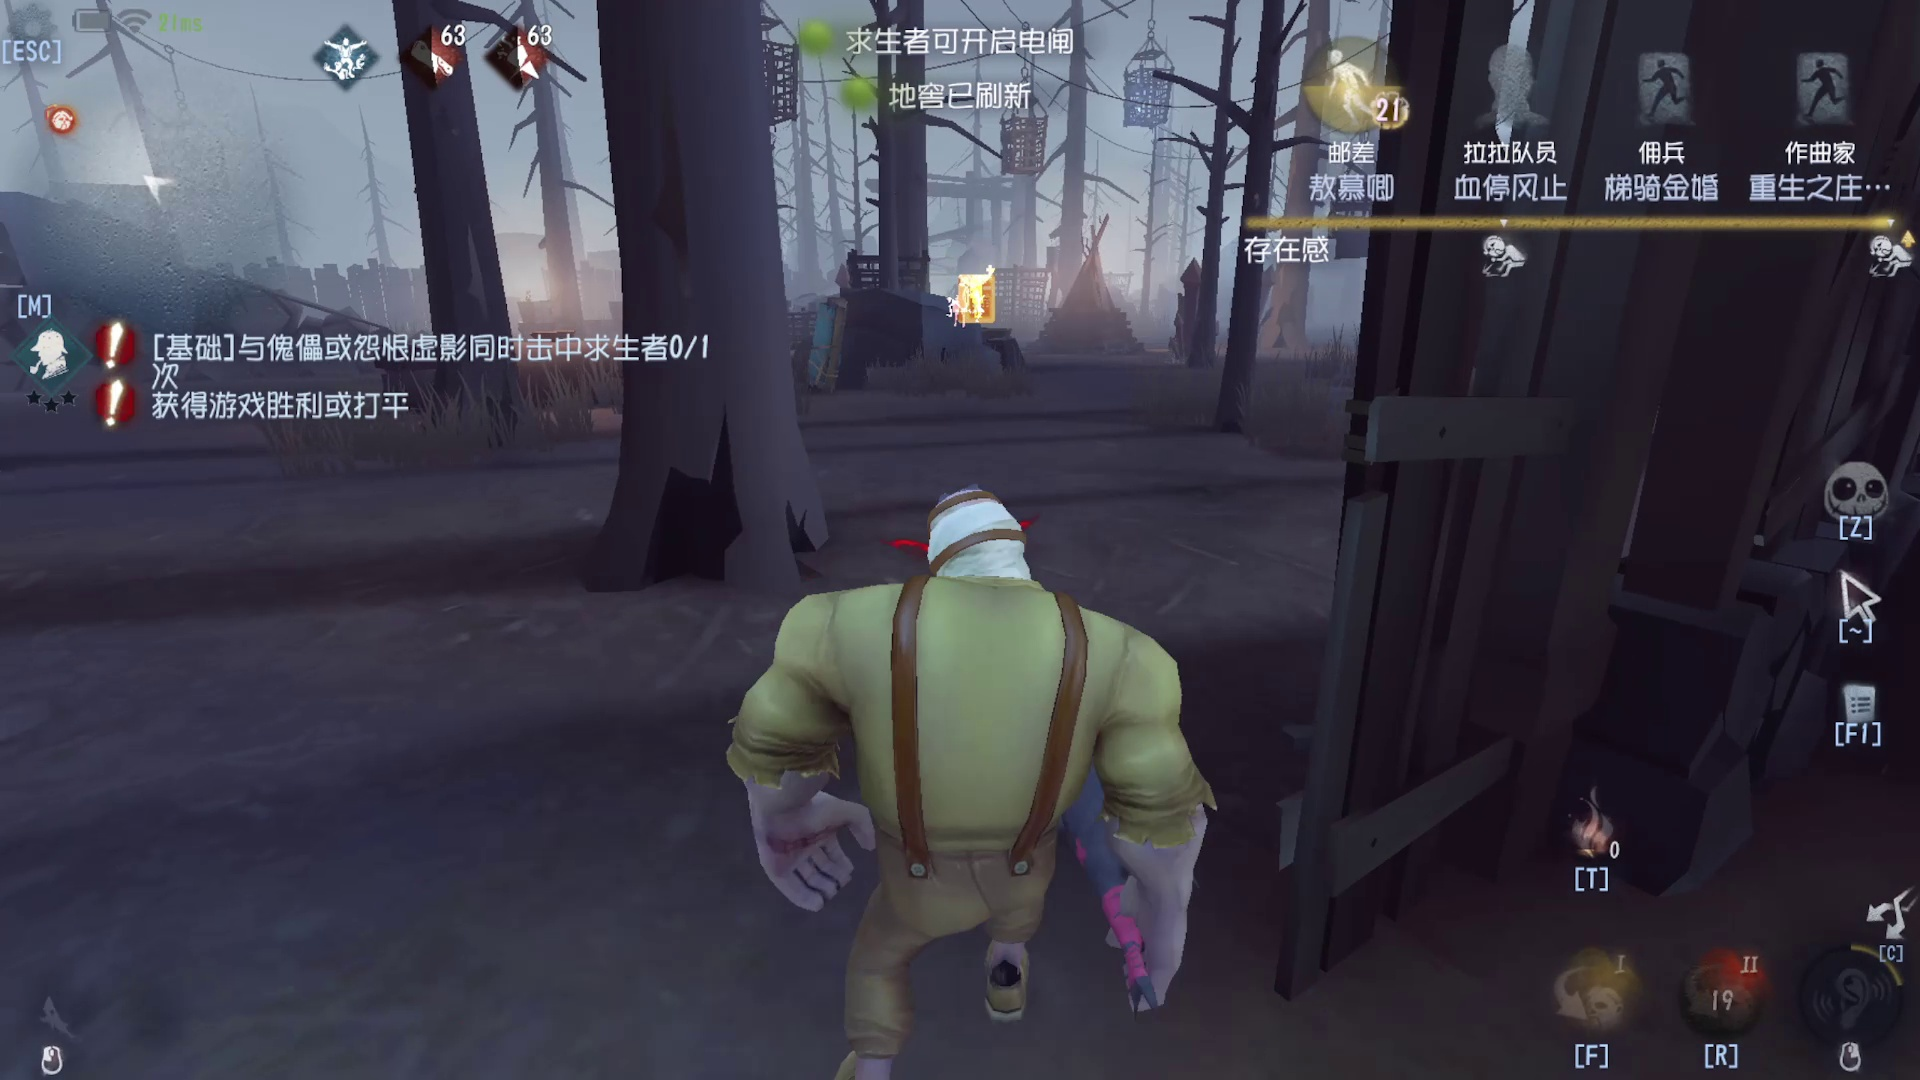木板: (798, 273, 865, 413)
狂欢之椅: (1160, 247, 1230, 384)
设置: (1, 1, 82, 82)
